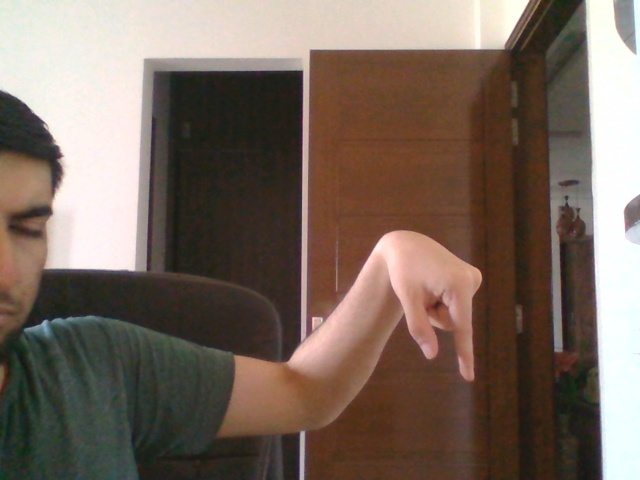LetterQ: (378, 227, 483, 386)
